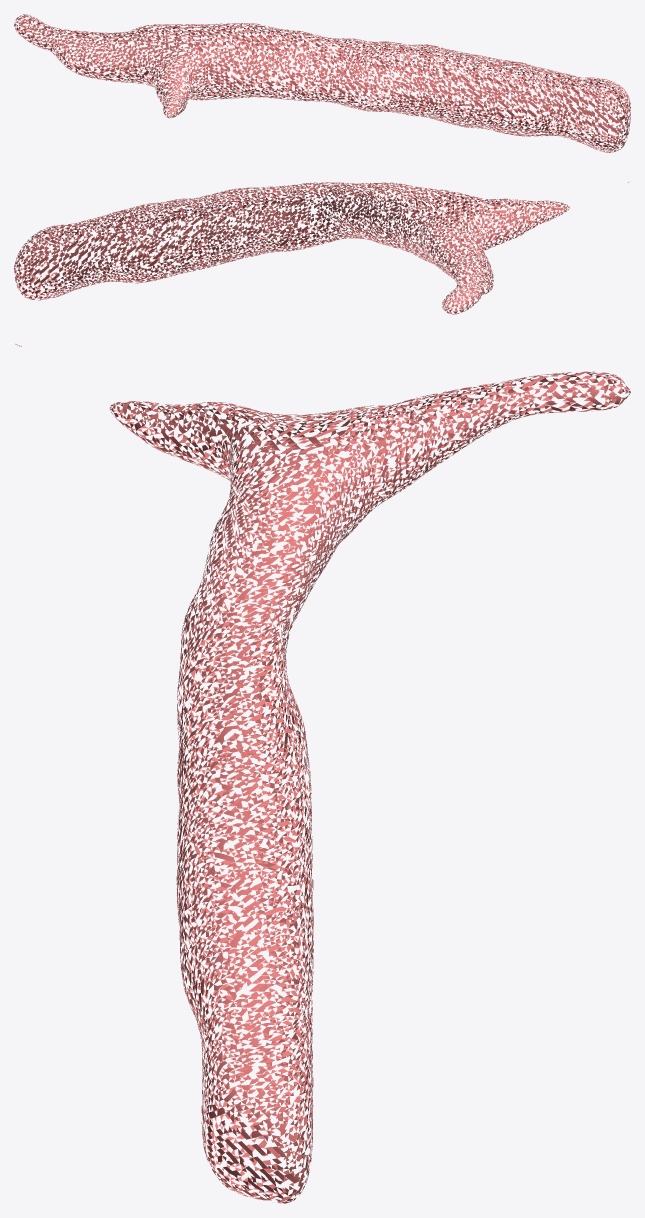
The model's file is morph_000.glb.
3 renders of one model, top to bottom at view 1: azimuth 30°, elevation 25°; view 2: azimuth 150°, elevation 25°; view 3: azimuth 270°, elevation 25°, orthographic. The views are drawn at different scales.
Bounding box in the file's own units: 127 × 46.21 × 65.57.
